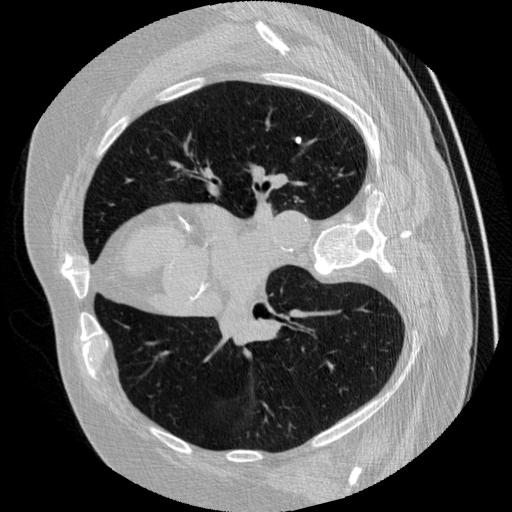nodule: (291, 134, 306, 149)
